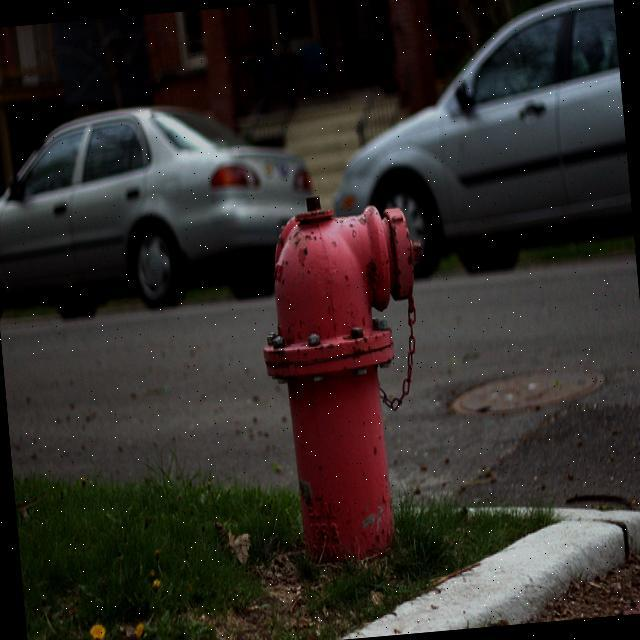fire_hydrant: (247, 185, 447, 568)
